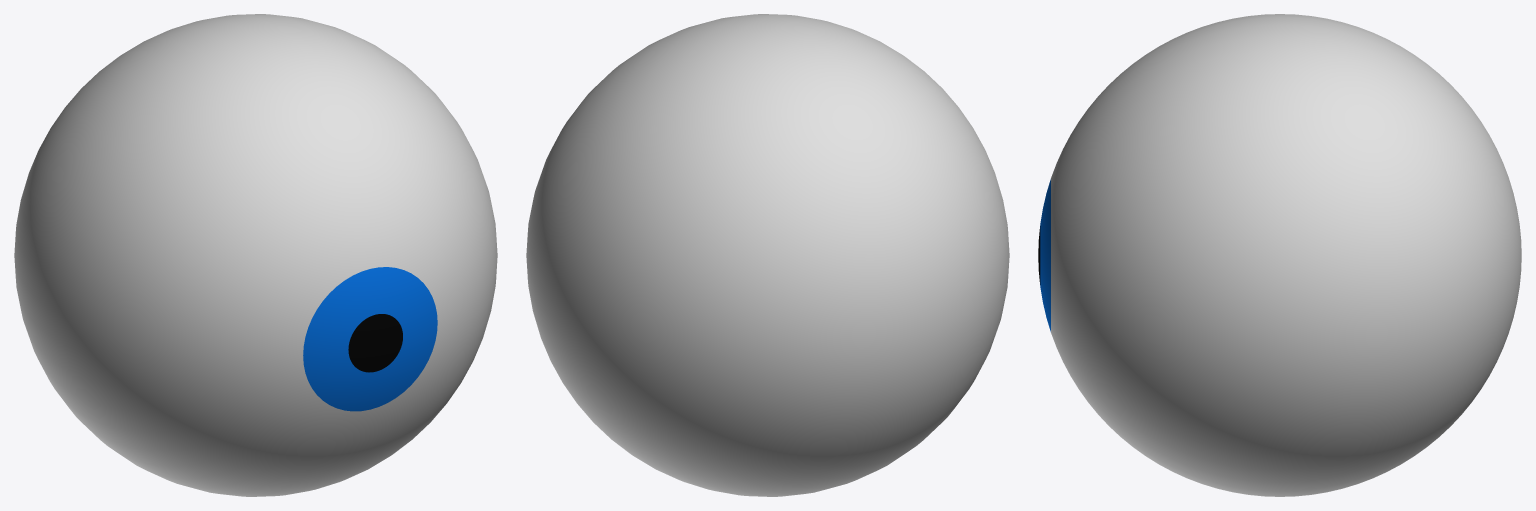
The model's file is eye.fbx.
The picture shows the model from 3 angles, left to right: view 1: azimuth 30°, elevation 25°; view 2: azimuth 150°, elevation 25°; view 3: azimuth 270°, elevation 25°; orthographic projection.
Visible parts, largest first — view 1: Eye; view 2: Eye; view 3: Eye.
Part boxes in pixels (<box>): Eye: <box>14,14,497,496</box>; Eye: <box>526,14,1009,496</box>; Eye: <box>1038,14,1521,496</box>.
Bounding box in the file's own units: 200 × 200 × 200.
